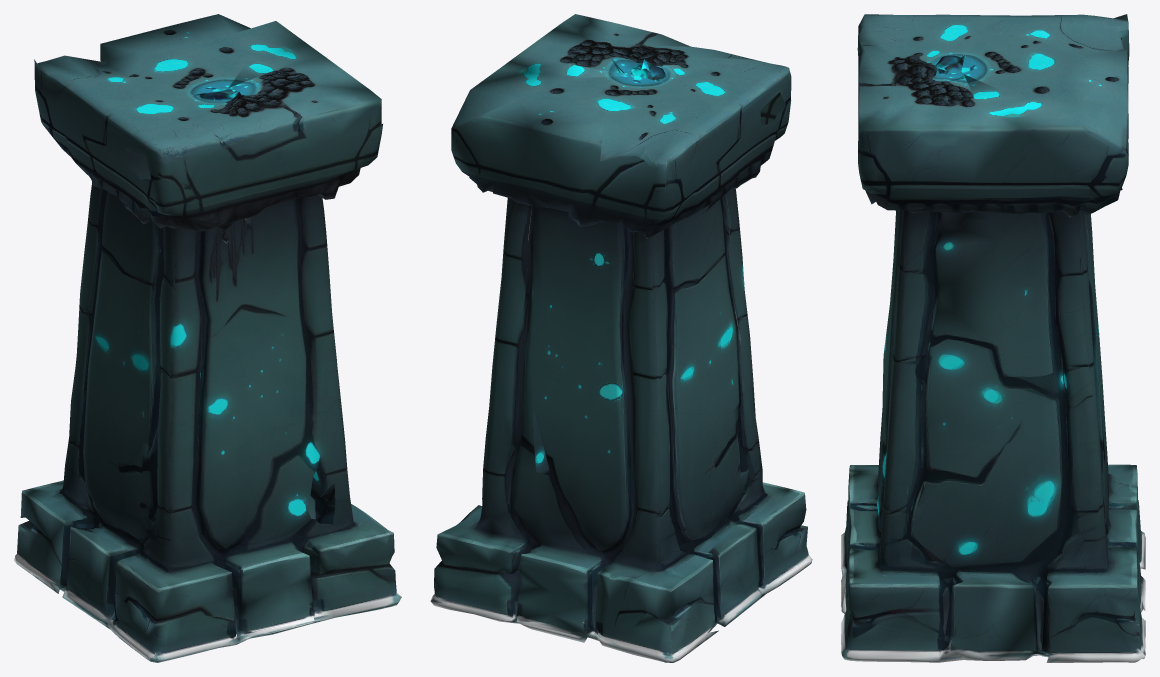
The model's file is z3_column.glb.
3 renders of one model, left to right at view 1: azimuth 30°, elevation 25°; view 2: azimuth 150°, elevation 25°; view 3: azimuth 270°, elevation 25°, orthographic. The views are drawn at different scales.
Size of the model in its own units: 0.9738 by 1.89 by 0.9743.
Materials: 1 (1 with a texture image).
